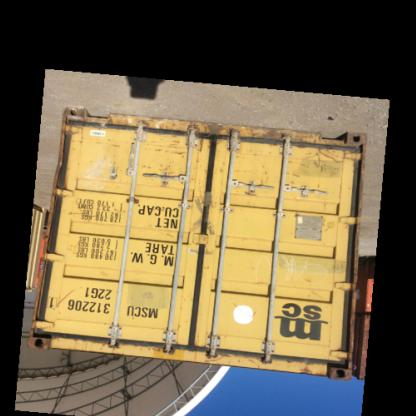Damage: (302, 131, 362, 174), (49, 132, 70, 194), (150, 134, 186, 160), (246, 127, 296, 144), (140, 340, 185, 358), (85, 332, 125, 352), (46, 290, 76, 314), (200, 350, 240, 368), (29, 334, 80, 348), (198, 118, 229, 141), (60, 205, 98, 223), (254, 159, 272, 191), (155, 164, 177, 185), (296, 364, 328, 378), (159, 229, 179, 250), (215, 157, 231, 179), (306, 291, 330, 305), (105, 134, 121, 154), (244, 353, 263, 368), (284, 170, 296, 190), (75, 134, 84, 150), (301, 274, 313, 286)
